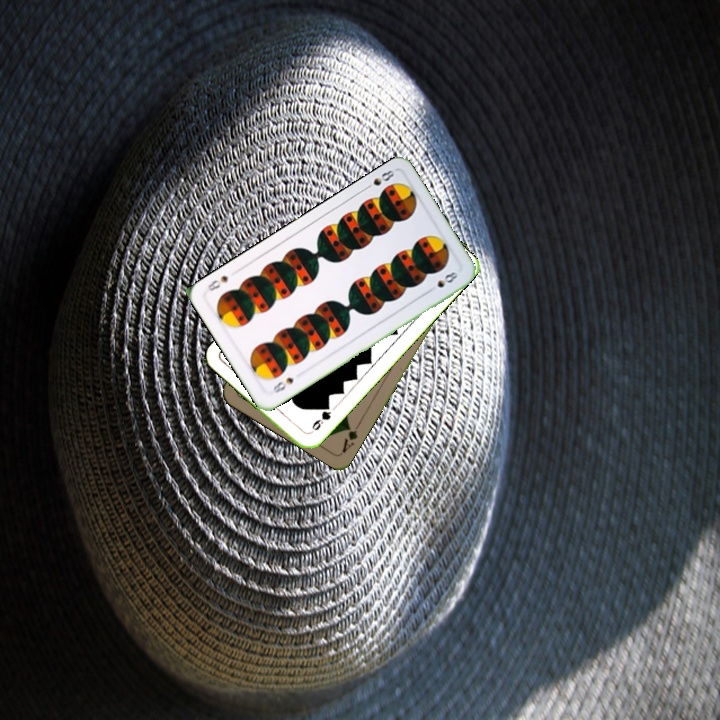G9: (305, 401, 334, 436)
GA: (338, 418, 363, 456)
S8: (360, 165, 397, 193), (269, 373, 296, 396)
